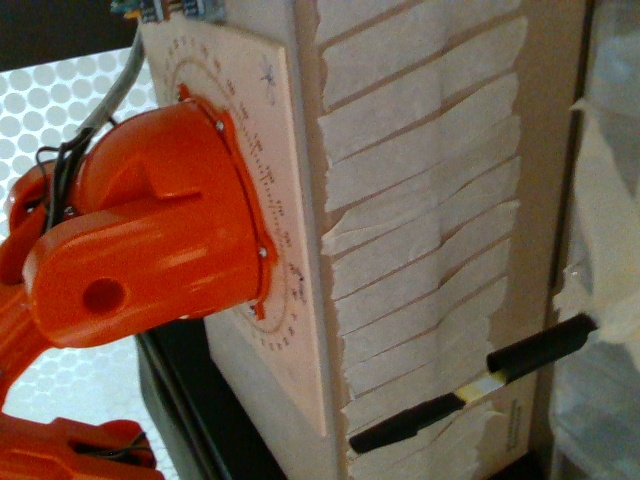test_strip: (348, 372, 503, 454)
